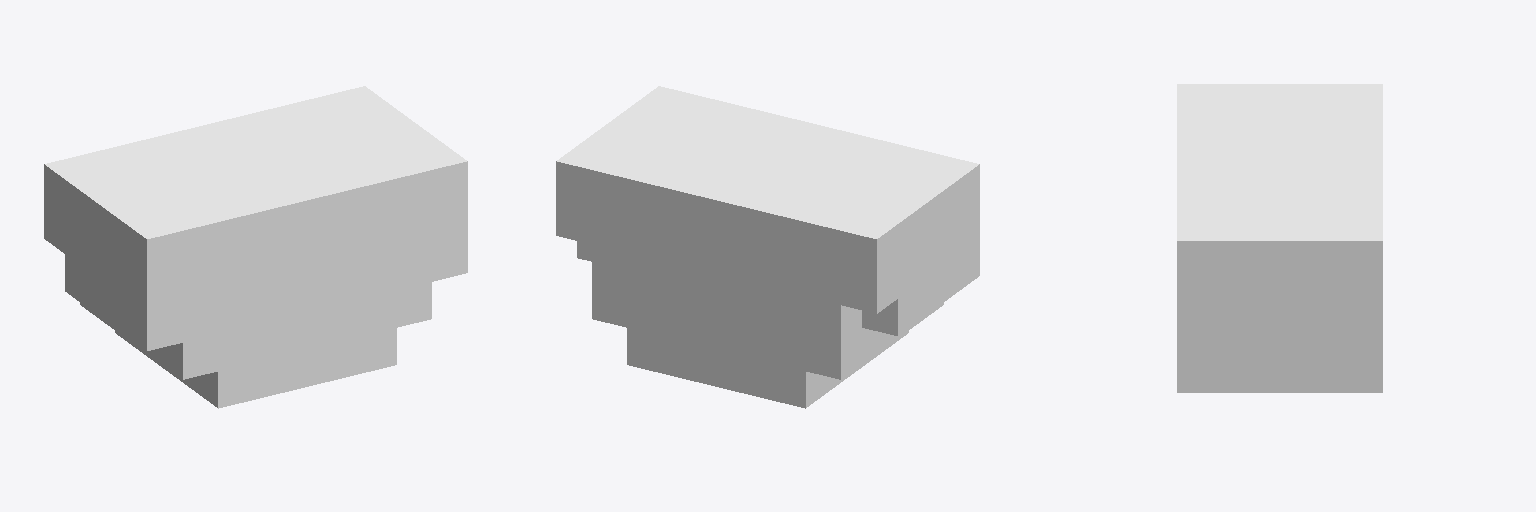
Rendered from a792_BasicGuard_Crotch.obj.
3 views of the same model, side by side, from view 1: azimuth 30°, elevation 25°; view 2: azimuth 150°, elevation 25°; view 3: azimuth 270°, elevation 25° (orthographic).
Size of the model in its own units: 9 by 5 by 5.